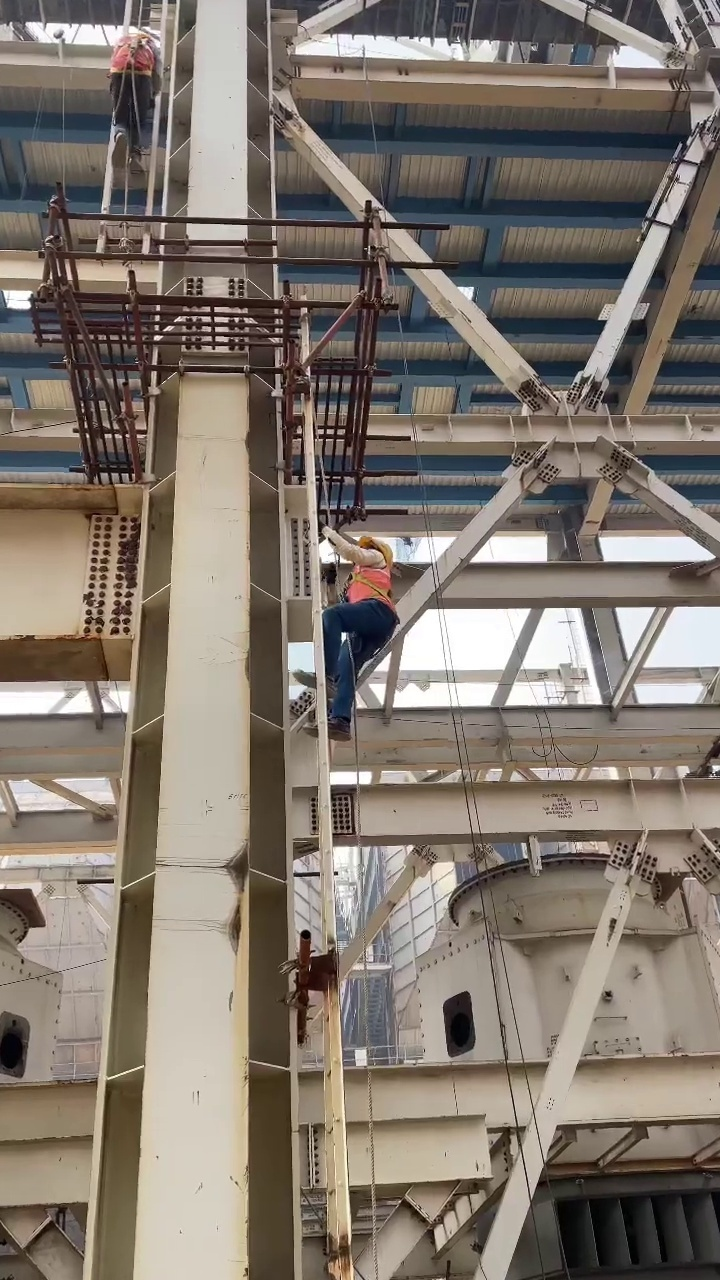Helmet: (358, 528, 397, 555)
Person: (290, 529, 401, 747), (100, 37, 157, 182)
Safety_Harness: (349, 562, 400, 608), (110, 39, 153, 76)
Safety_shoes: (300, 721, 351, 747), (290, 669, 333, 692), (111, 132, 128, 170), (127, 157, 146, 183)
